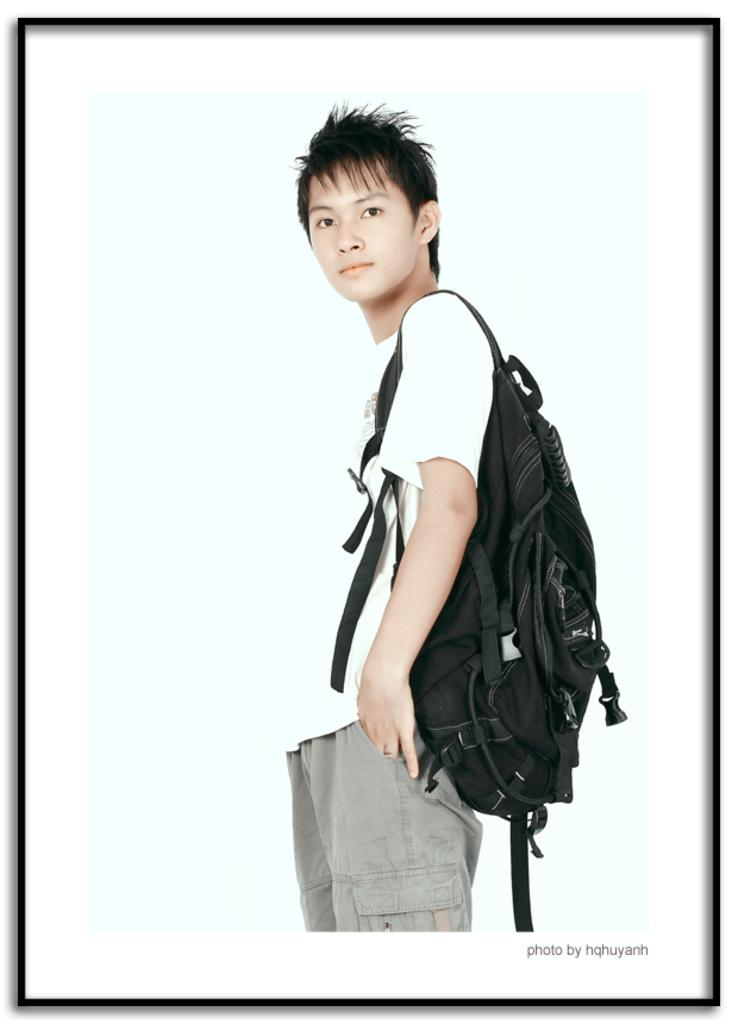Luggage-and-bags: (357, 285, 608, 848)
